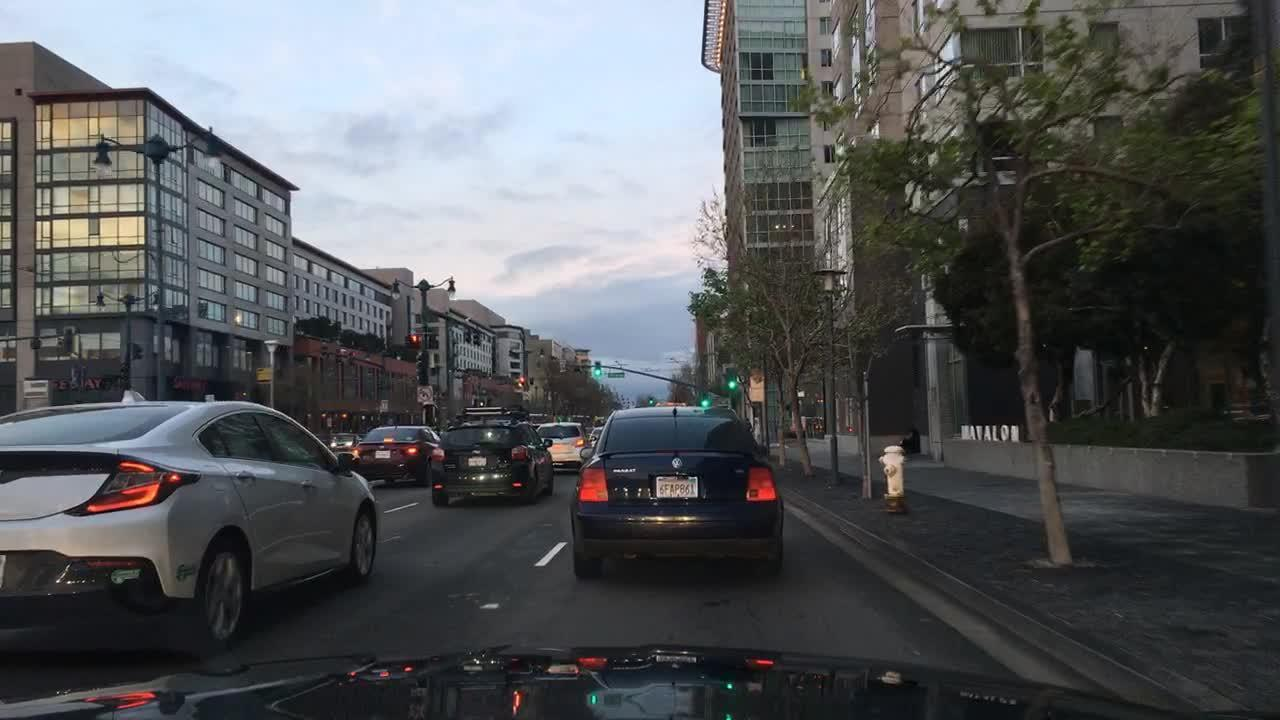Volkswagen: (668, 453, 686, 473)
